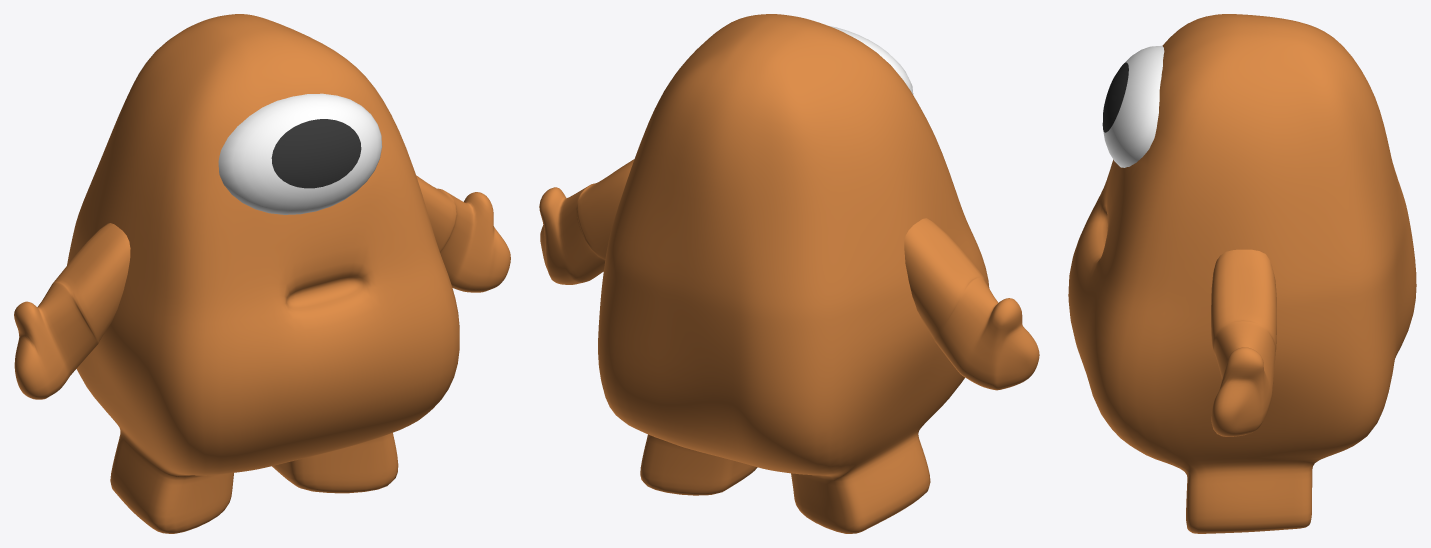
Rendered from amongus 1. karakter.fbx.
3 views of the same model, side by side, from view 1: azimuth 30°, elevation 25°; view 2: azimuth 150°, elevation 25°; view 3: azimuth 270°, elevation 25° (orthographic).
Visible parts, largest first — view 1: Cube, Cube.001, Sphere.001; view 2: Cube, Cube.001, Sphere.001; view 3: Cube, Cube.001, Sphere.001.
Part boxes in pixels (x1,y1,x2,y2): Cube: [67, 14, 459, 533]; Cube.001: [14, 175, 510, 399]; Sphere.001: [218, 93, 382, 214]; Cube: [598, 14, 989, 533]; Cube.001: [539, 159, 1039, 390]; Sphere.001: [829, 26, 913, 94]; Cube: [1068, 14, 1416, 533]; Cube.001: [1211, 249, 1276, 436]; Sphere.001: [1102, 45, 1164, 167].
Size of the model in its own units: 444 by 402 by 275.
